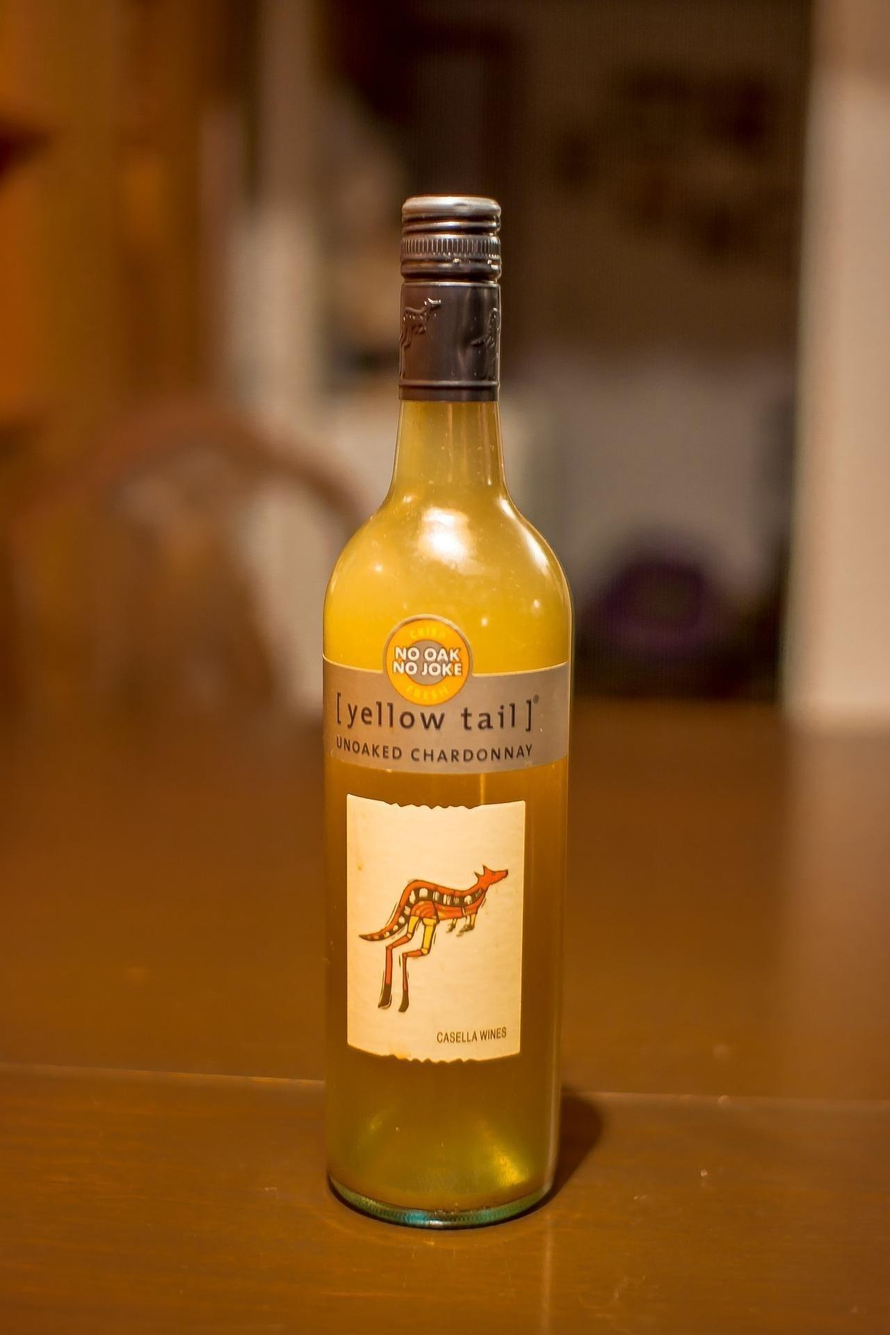bottle-glass: (307, 183, 591, 1248)
